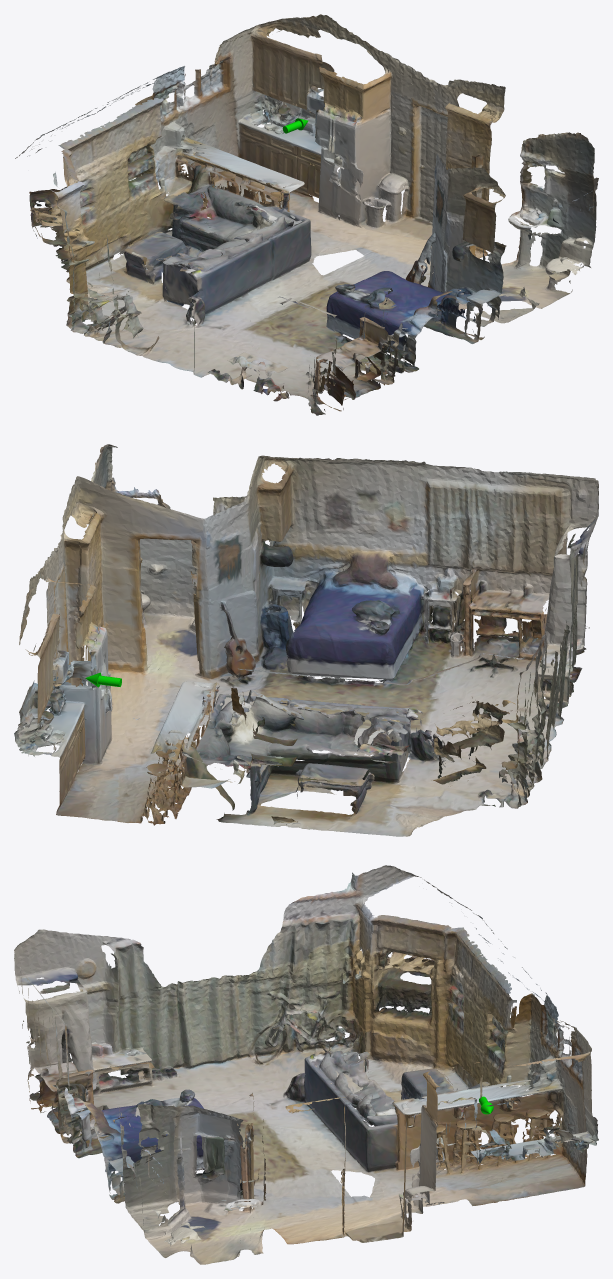
The model's file is situation_6.glb.
3 renders of one model, top to bottom at view 1: azimuth 30°, elevation 25°; view 2: azimuth 150°, elevation 25°; view 3: azimuth 270°, elevation 25°, orthographic. The views are drawn at different scales.
Parts seen in each view (by area): view 1: world; view 2: world; view 3: world.
Part boxes in pixels (x1,y1,x2,y2): world: (15, 14, 598, 415); world: (14, 444, 598, 836); world: (14, 865, 598, 1264).
Bounding box in the file's own units: 8.42 × 3.03 × 8.74.
